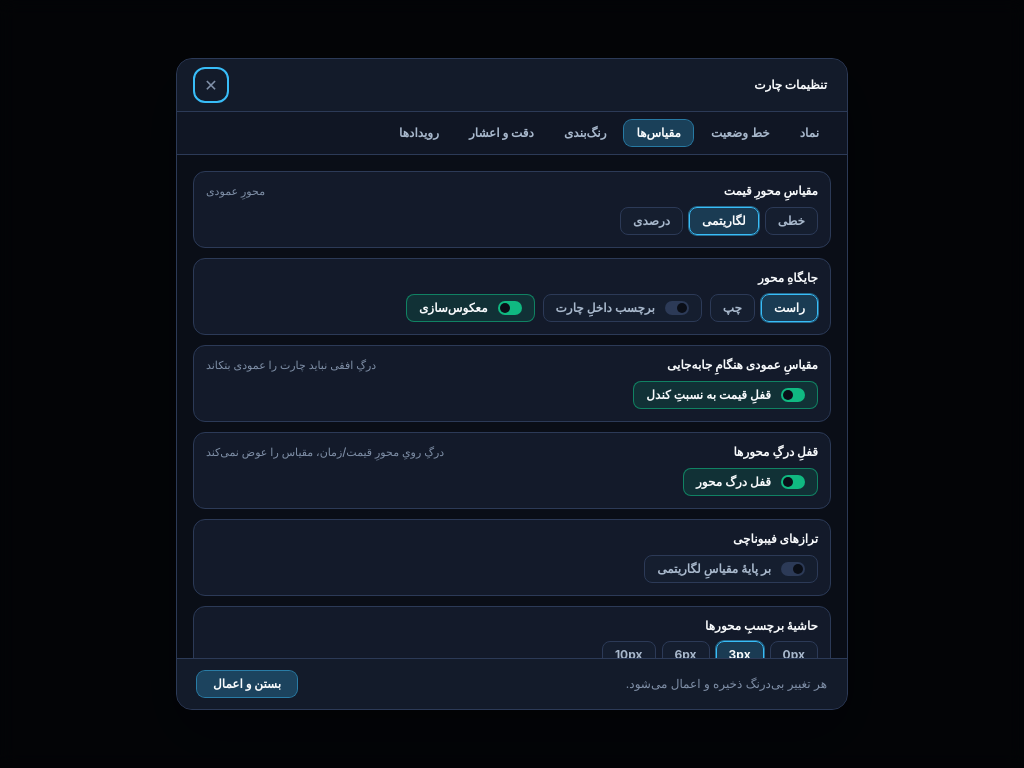
Scenario: دیالوگ تنظیمات چارت › تب رویدادها: سوئیچ‌های مستقل D/S حذف‌اند، چون سرور نوعِ رویداد را نمی‌فرستد
The width and height of the screenshot is (1024, 768).
Click the tab with test id "settings-tab-events": (419, 133) [387, 120, 451, 146]
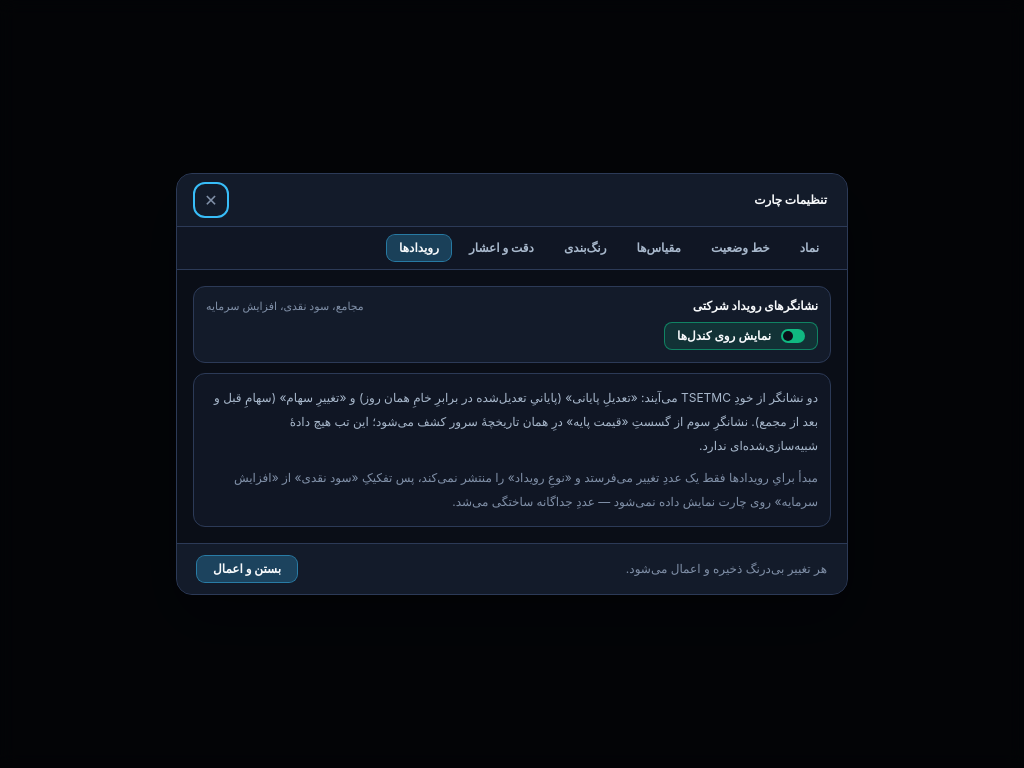
Now the text with test id "settings-events-note" is shown, box [206, 386, 818, 458]
Now the text "ساختگی" is shown, box [234, 470, 818, 509]
